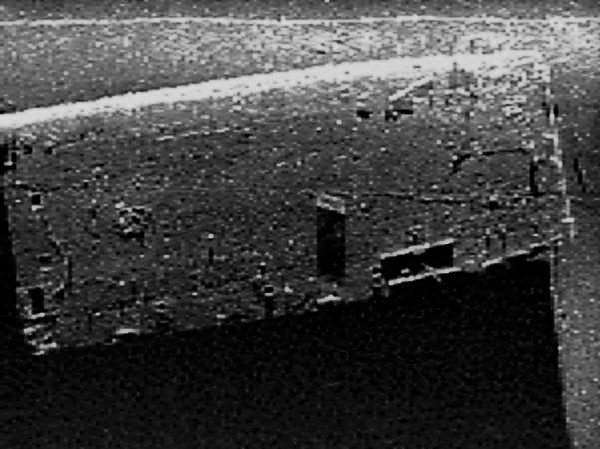ship: (1, 46, 577, 356)
